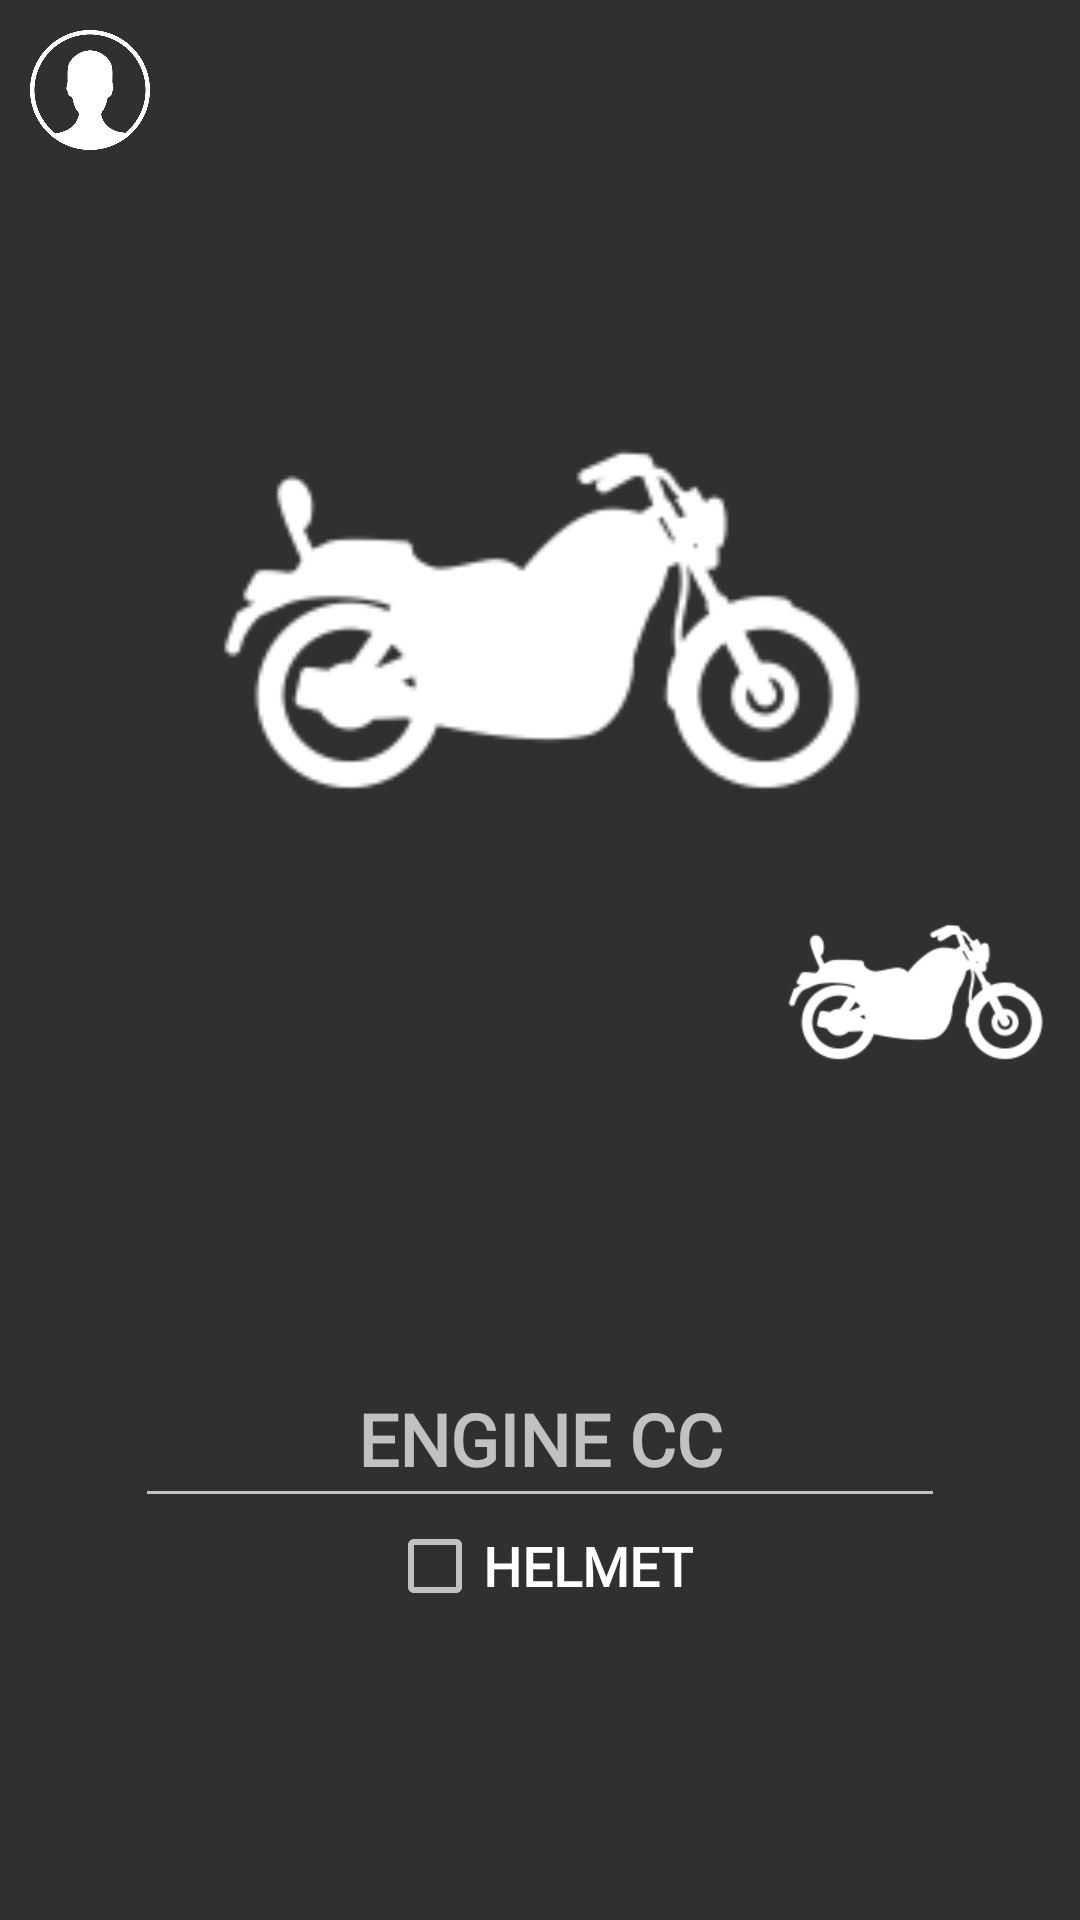

Icon bounding boxes for this 1080*1920 phone screenshot, format BBox(x1, y1, x2, y2):
user: BBox(30, 30, 150, 150)
